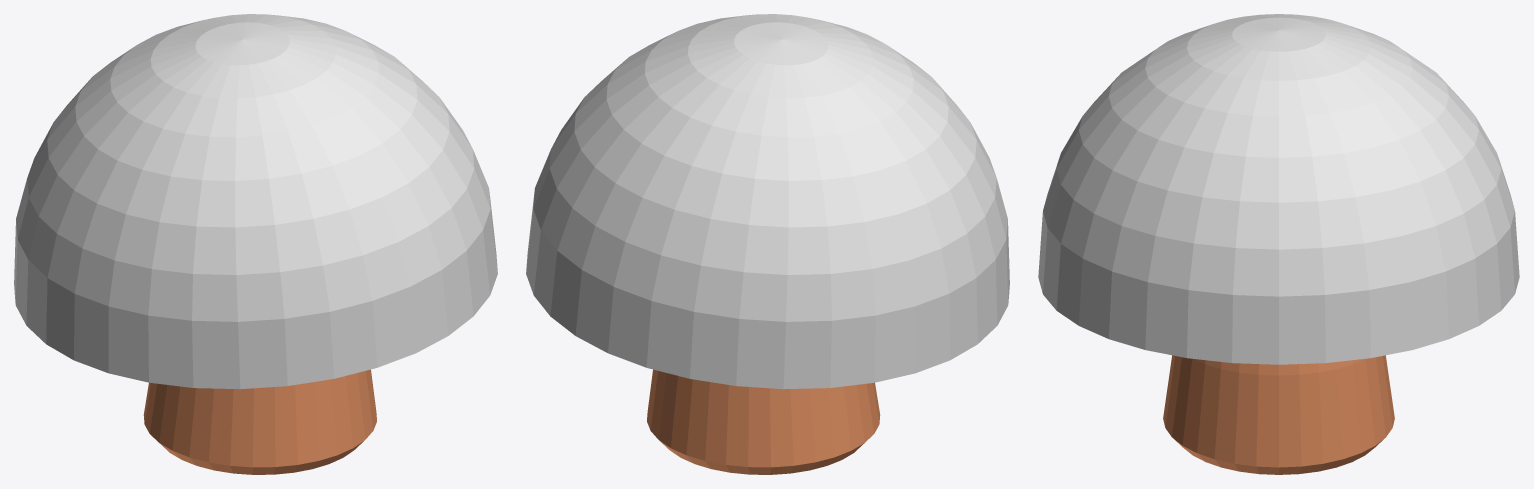
File: mushroom.fbx
3 renders of one model, left to right at view 1: azimuth 30°, elevation 25°; view 2: azimuth 150°, elevation 25°; view 3: azimuth 270°, elevation 25°, orthographic.
Parts seen in each view (by area): view 1: mushtop, mushbase; view 2: mushtop, mushbase; view 3: mushtop, mushbase.
Part boxes in pixels (bbox=[...]): mushtop: bbox=[14, 14, 497, 389]; mushbase: bbox=[143, 369, 376, 474]; mushtop: bbox=[526, 14, 1009, 389]; mushbase: bbox=[647, 369, 880, 474]; mushtop: bbox=[1038, 14, 1519, 364]; mushbase: bbox=[1163, 355, 1394, 474].
Bounding box in the file's own units: 473 × 426 × 474.
